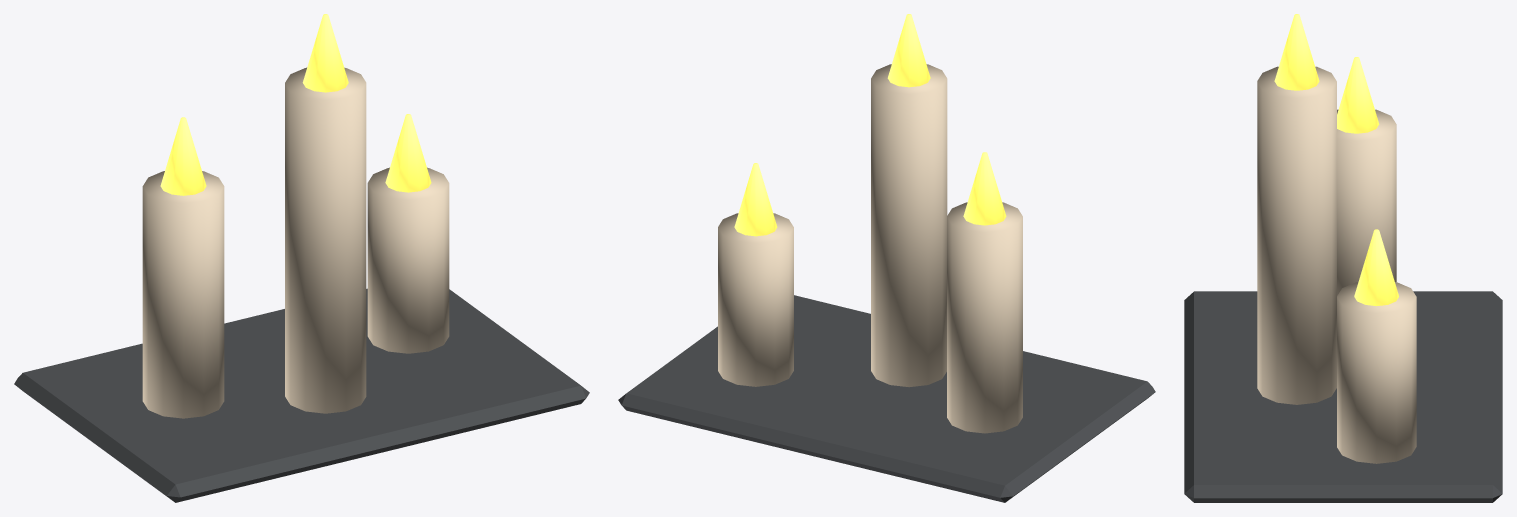
Rendered from candle_cluster.glb.
3 views of the same model, side by side, from view 1: azimuth 30°, elevation 25°; view 2: azimuth 150°, elevation 25°; view 3: azimuth 270°, elevation 25° (orthographic). The views are drawn at different scales.
Parts seen in each view (by area): view 1: candle_cluster; view 2: candle_cluster; view 3: candle_cluster.
Boxes of the visible parts, left/top/right/bottom form: candle_cluster: left=14, top=14, right=589, bottom=502; candle_cluster: left=618, top=14, right=1155, bottom=502; candle_cluster: left=1184, top=14, right=1502, bottom=502.
Size of the model in its own units: 0.36 by 0.325 by 0.24.
